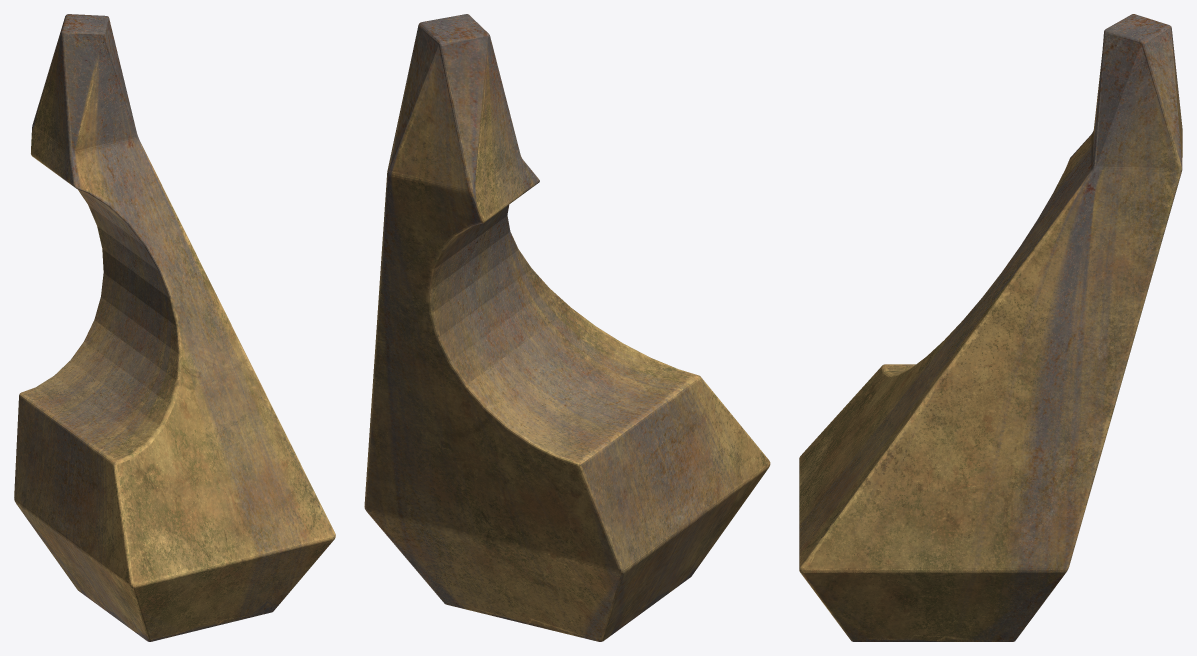
3 views of the same model, side by side, from view 1: azimuth 30°, elevation 25°; view 2: azimuth 150°, elevation 25°; view 3: azimuth 270°, elevation 25° (orthographic). The views are drawn at different scales.
Visible parts, largest first — view 1: Cube; view 2: Cube; view 3: Cube.
Part boxes in pixels (x1,y1,x2,y2): Cube: [14, 14, 335, 641]; Cube: [364, 14, 770, 641]; Cube: [799, 14, 1182, 641].
Size of the model in its own units: 199 by 474 by 284.
1 material, 1 textured.
